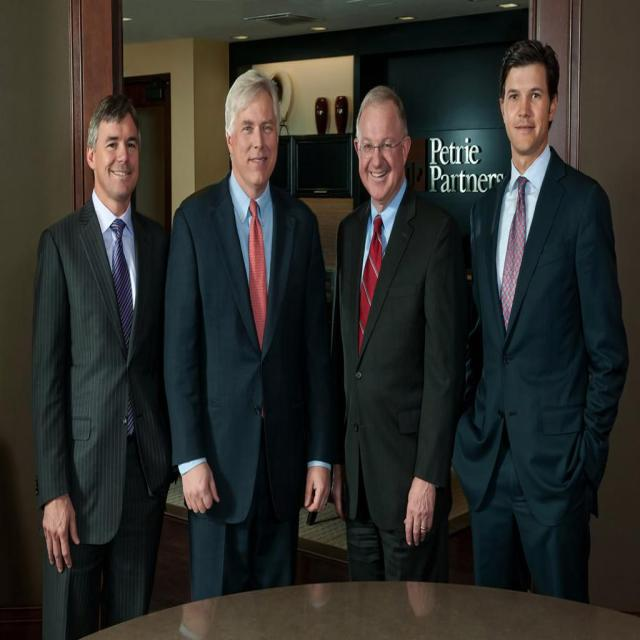Face: (356, 96, 425, 208), (84, 113, 146, 207), (228, 86, 282, 192), (506, 77, 553, 155)
